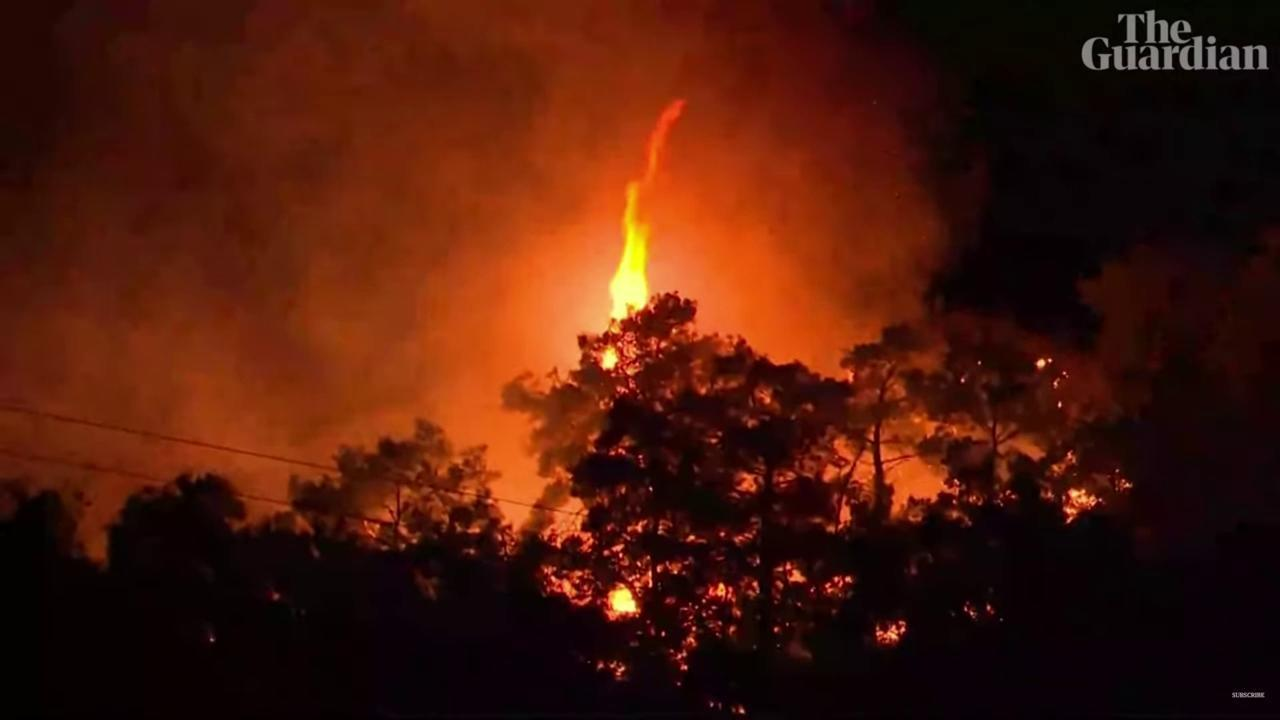fire: (598, 97, 685, 370), (1062, 486, 1100, 527), (605, 582, 642, 617), (364, 520, 376, 538), (1067, 449, 1077, 464), (1121, 477, 1133, 489), (1035, 357, 1046, 370), (1053, 377, 1061, 390), (1062, 372, 1070, 379), (960, 377, 966, 384), (1047, 358, 1053, 364), (1058, 400, 1062, 408), (977, 360, 982, 365)
smoke: (0, 0, 994, 573)
